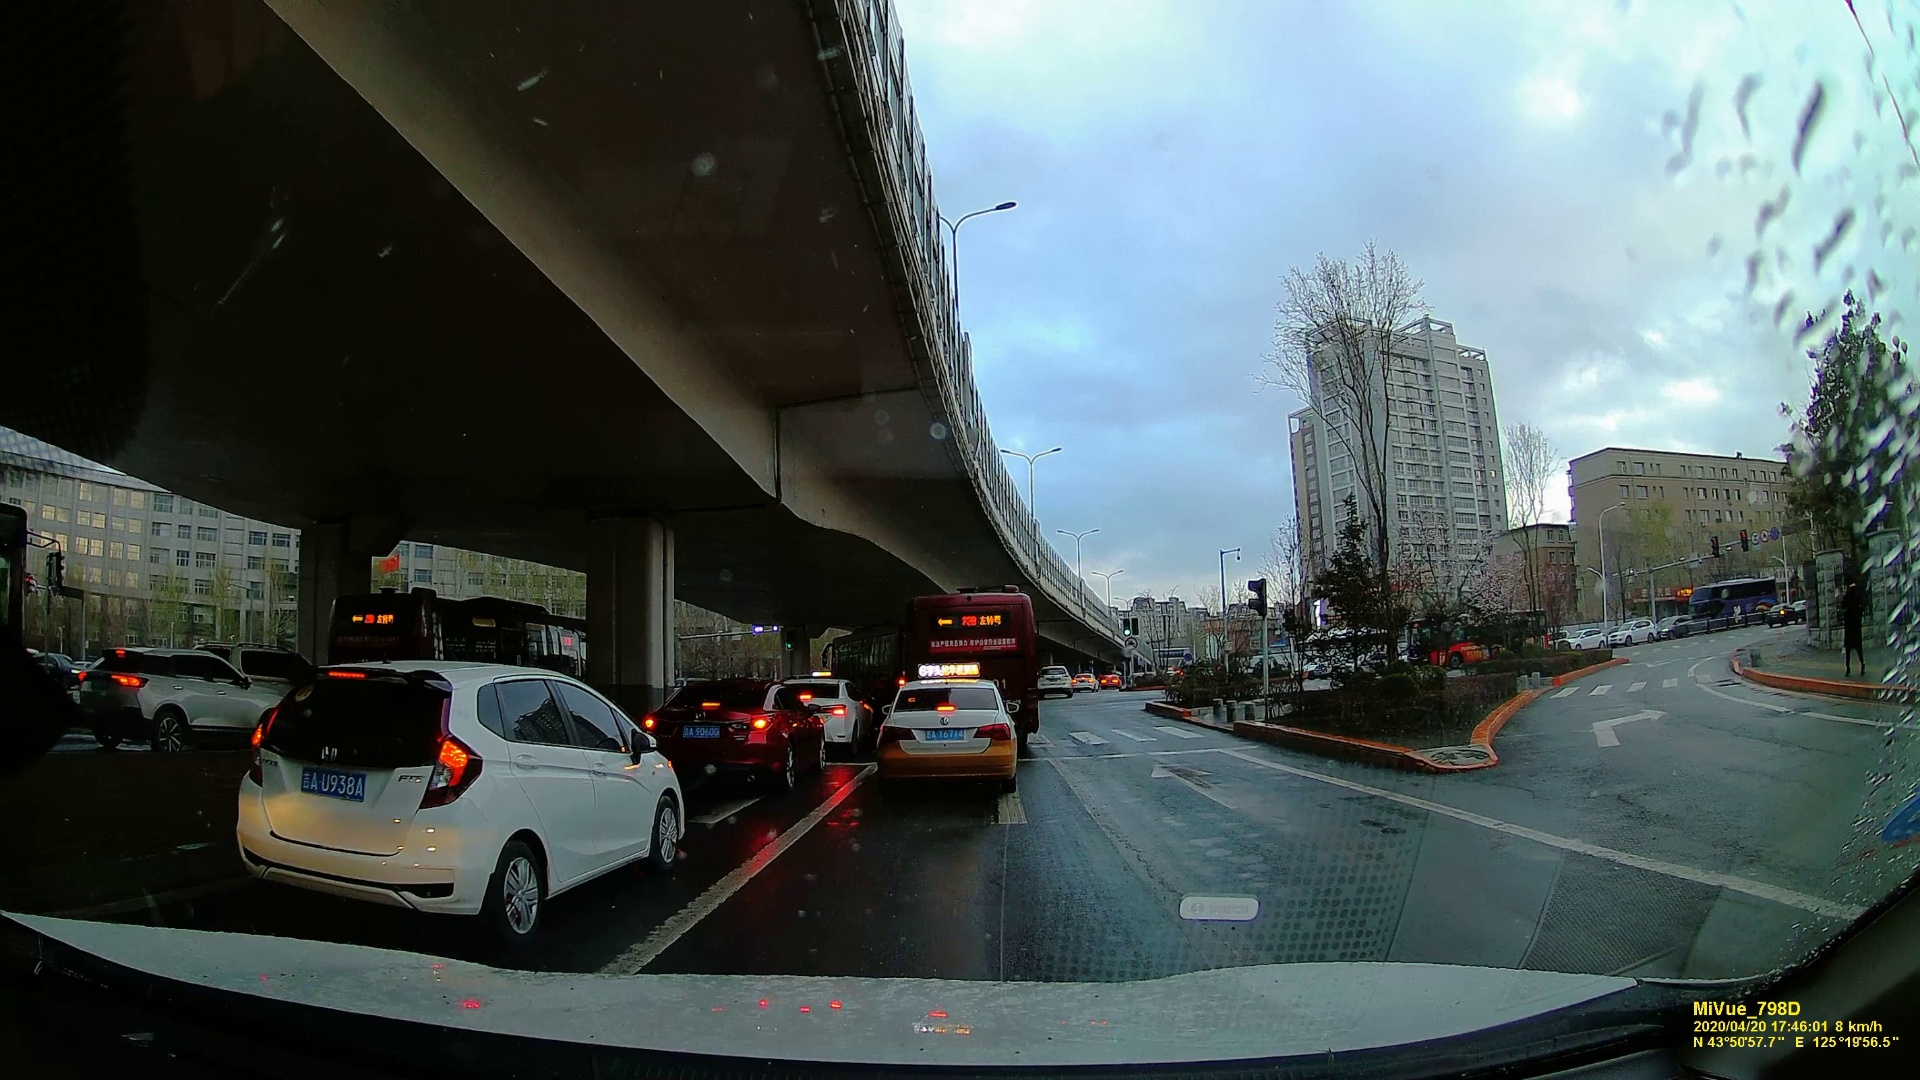bus: (887, 586, 1031, 731)
person: (1832, 586, 1868, 676)
traffic_sign: (1243, 575, 1269, 621), (1708, 536, 1720, 558), (1738, 529, 1748, 551), (1122, 618, 1131, 636), (1751, 532, 1759, 545)
vehicle: (226, 653, 681, 942), (75, 635, 293, 756), (653, 677, 825, 803), (876, 675, 1018, 797), (764, 674, 865, 750), (1689, 583, 1772, 624), (1038, 666, 1074, 699), (1610, 620, 1654, 645), (1099, 674, 1120, 690)
